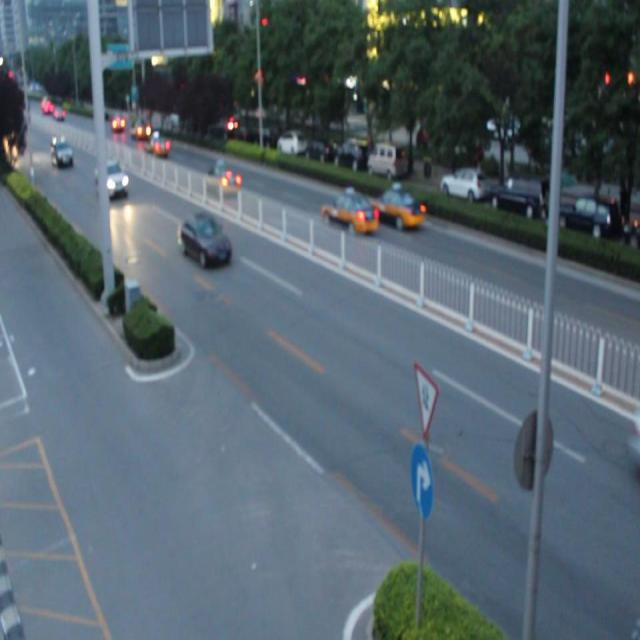car: (178, 214, 232, 268), (324, 194, 376, 234), (373, 188, 422, 230), (204, 162, 240, 195), (98, 163, 127, 194), (142, 132, 170, 158)
